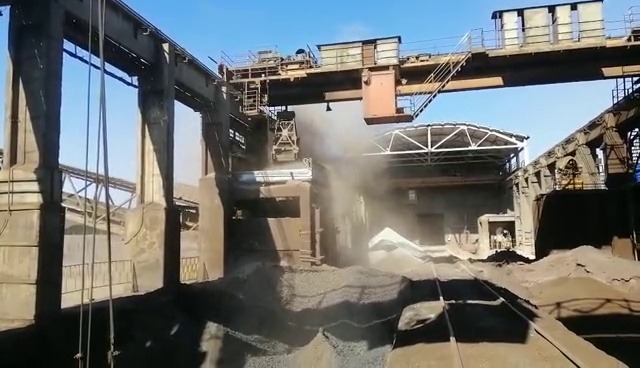dust: (244, 111, 471, 296)
grab: (271, 103, 303, 163)
